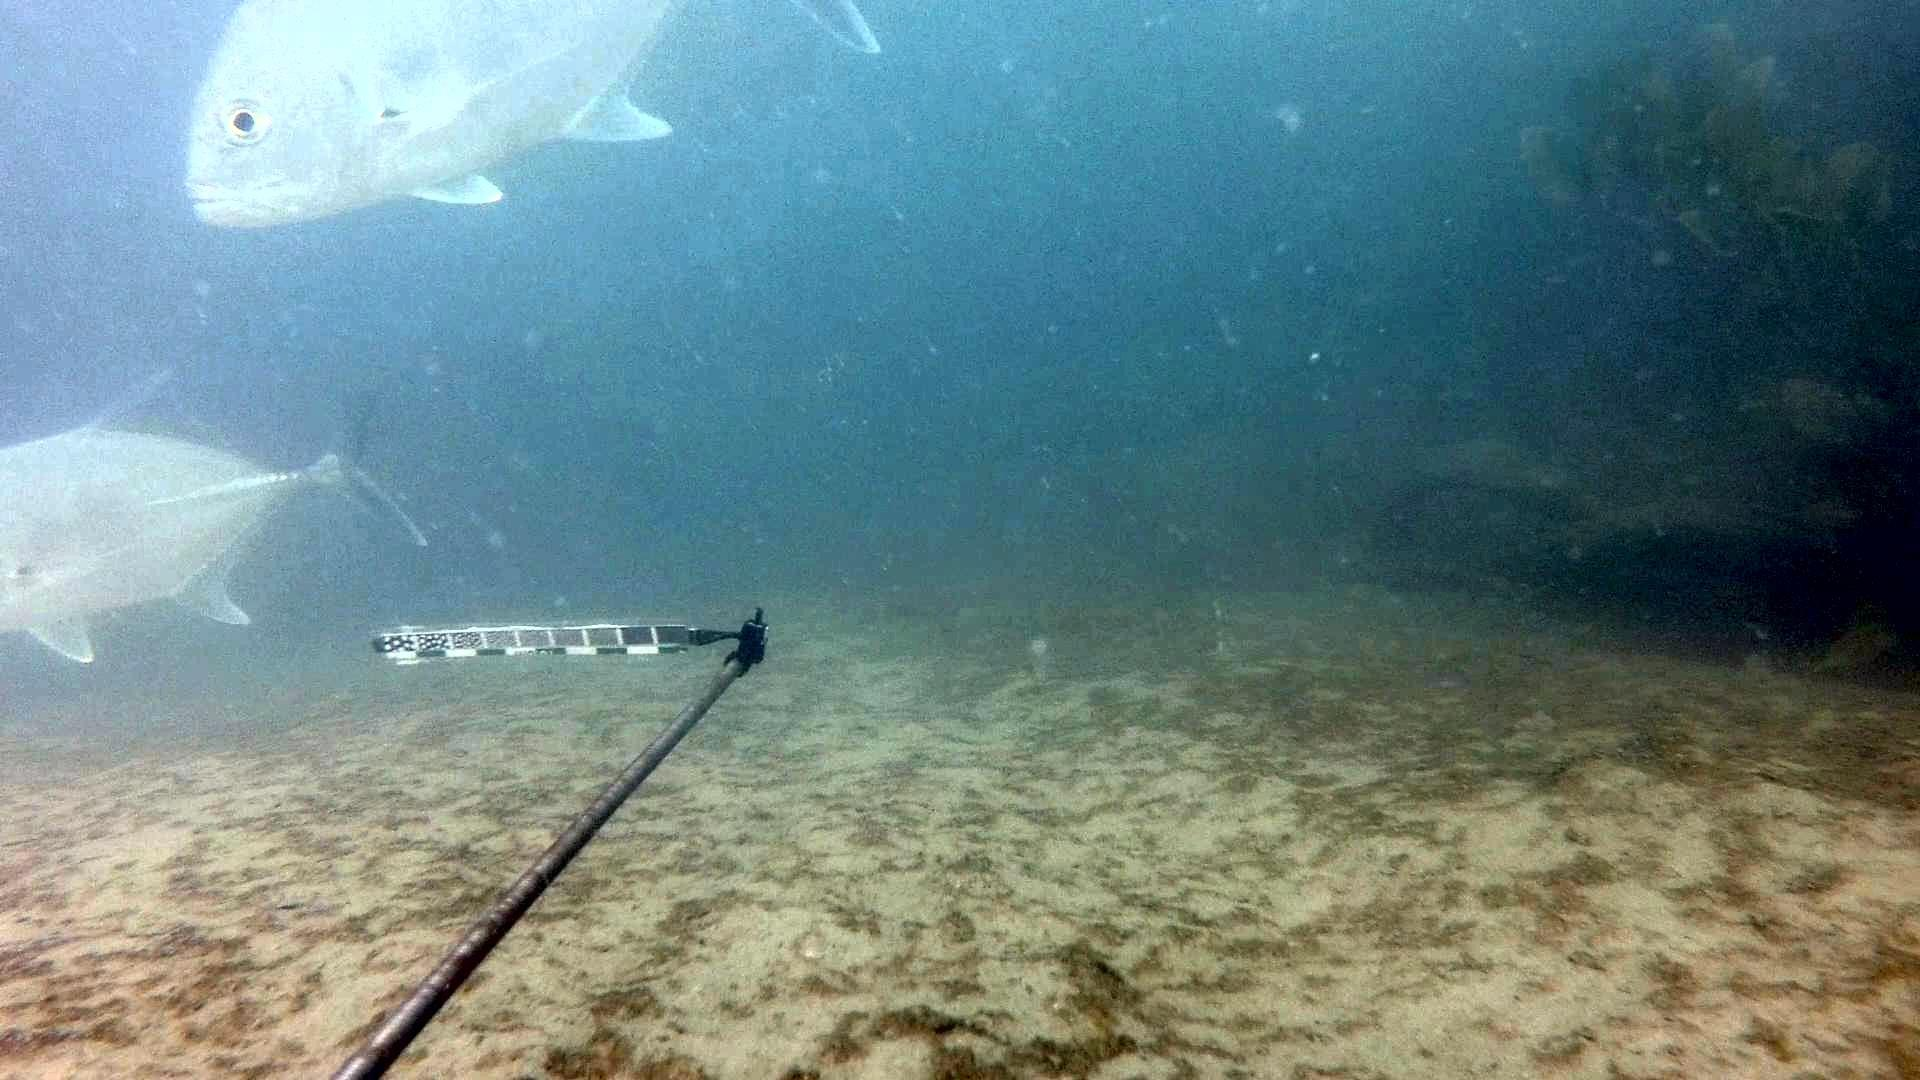caranx: (0, 334, 439, 671), (173, 0, 713, 237)
